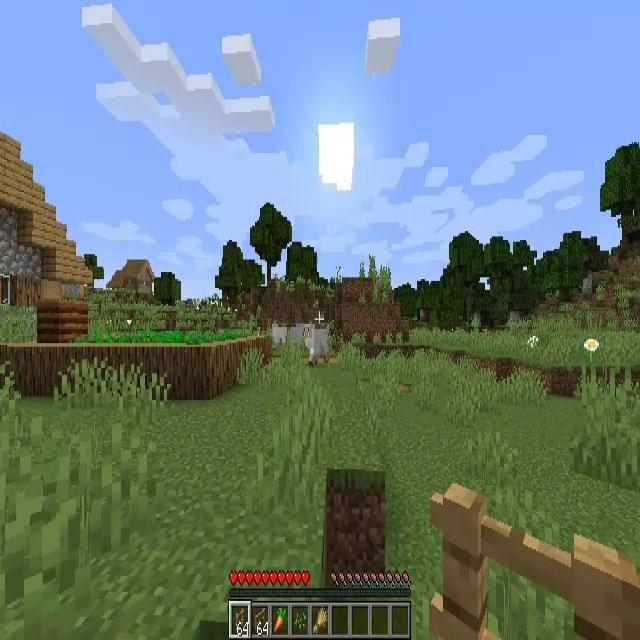flower: (584, 339, 599, 364), (528, 334, 538, 351)
sheep: (304, 324, 329, 366), (290, 321, 306, 348), (272, 324, 287, 348)
